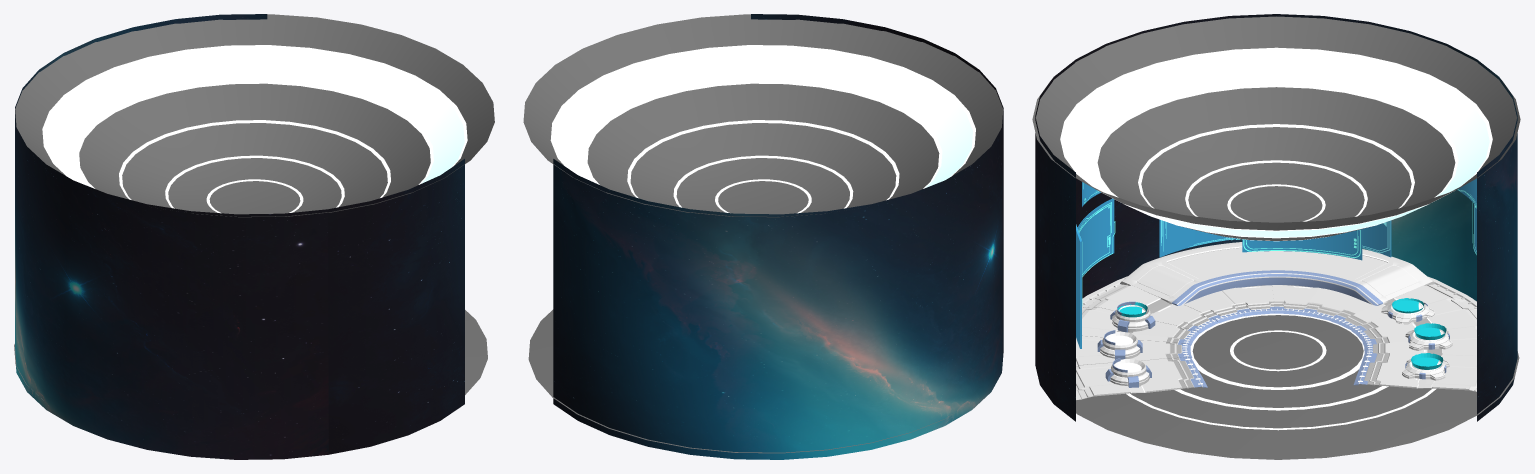
File: 圆形展厅.glb
3 views of the same model, side by side, from view 1: azimuth 30°, elevation 25°; view 2: azimuth 150°, elevation 25°; view 3: azimuth 270°, elevation 25° (orthographic).
Parts seen in each view (by area): view 1: 柱体.004, 柱体.005, 柱体.006; view 2: 柱体.004, 柱体.005, 柱体.006; view 3: 柱体.005, 柱体.006, 柱体.004, Wall_Empty.002, KB3D_HTS_BldgMD_E_Main, KB3D_HTS_BldgLG_C_HoloProjectorD.008, KB3D_HTS_BldgLG_C_HoloProjectorD.003, KB3D_HTS_BldgLG_C_HoloProjectorD.011, Props_Pod.003, Props_Pod.002, Props_Pod.001, KB3D_HTS_BldgSM_I_HoloA.001 (+3 smaller).
Boxes of the visible parts, x1,y1,x2,y2 form: 柱体.004: (15, 14, 464, 459); 柱体.005: (15, 14, 494, 217); 柱体.006: (14, 310, 487, 400); 柱体.004: (553, 14, 1003, 459); 柱体.005: (523, 14, 1003, 217); 柱体.006: (528, 309, 966, 453); 柱体.005: (1032, 16, 1520, 241); 柱体.006: (1076, 301, 1519, 459); 柱体.004: (1035, 14, 1517, 421); Wall_Empty.002: (1076, 276, 1476, 400); KB3D_HTS_BldgMD_E_Main: (1120, 242, 1435, 305); KB3D_HTS_BldgLG_C_HoloProjectorD.008: (1159, 219, 1391, 257); KB3D_HTS_BldgLG_C_HoloProjectorD.003: (1077, 198, 1115, 276); KB3D_HTS_BldgLG_C_HoloProjectorD.011: (1242, 229, 1362, 260); Props_Pod.003: (1105, 358, 1151, 387); Props_Pod.002: (1097, 330, 1142, 359); Props_Pod.001: (1110, 301, 1155, 332); KB3D_HTS_BldgSM_I_HoloA.001: (1076, 224, 1082, 348).
Bounding box in the file's own units: 15.65 × 8.81 × 15.63.
24 materials, 10 textured.
